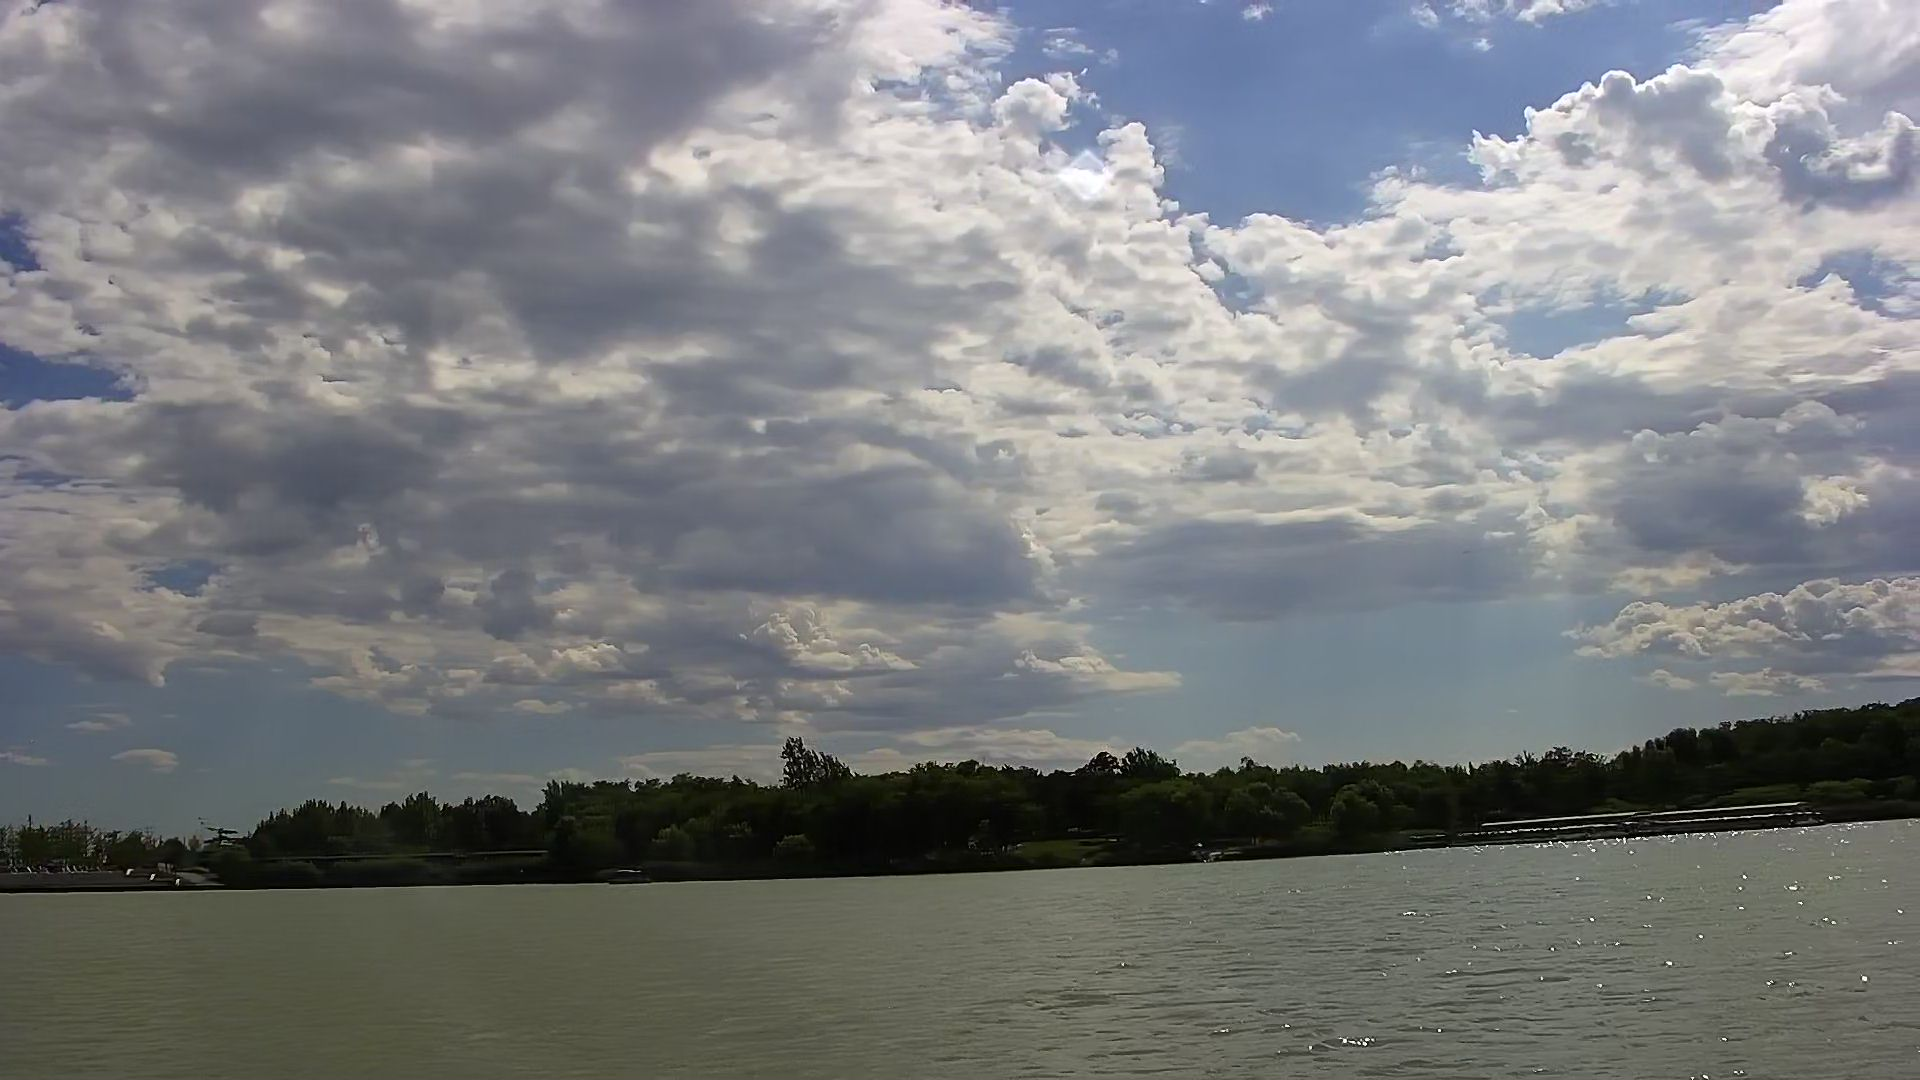harbor: (1443, 796, 1818, 845)
